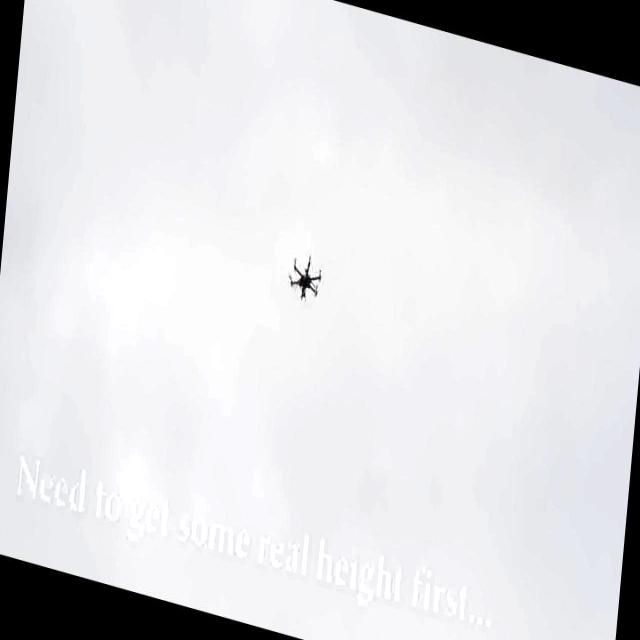drone: (282, 247, 324, 308)
